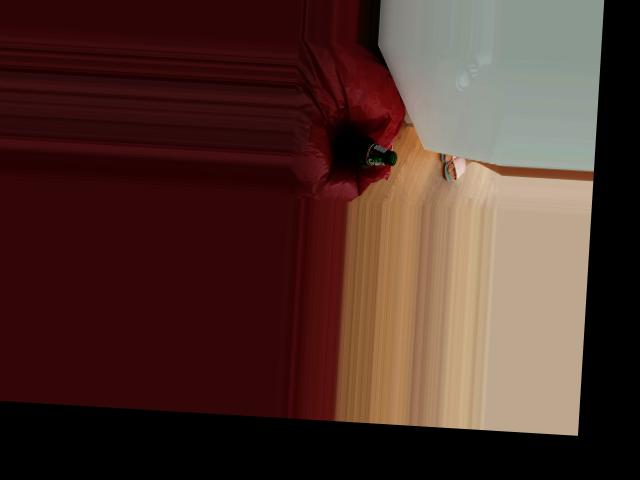beer: (332, 132, 397, 169)
